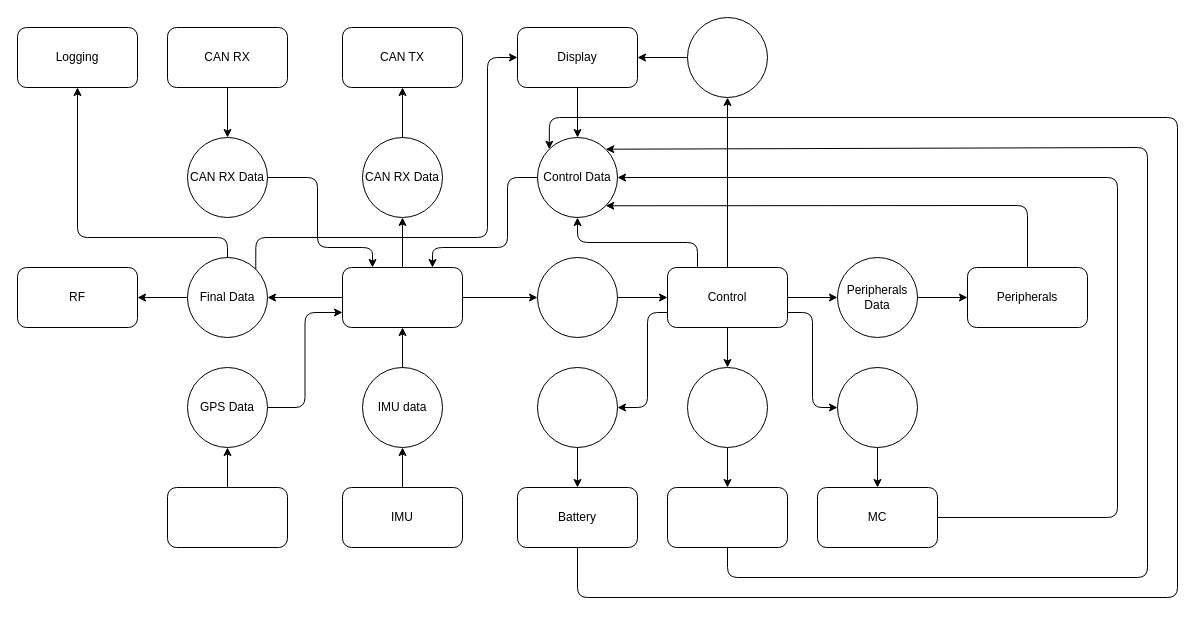
The diagram is 1203 pixels wide and 623 high, and some of its shapes have lost their labels. The shapes that lost their labels are listed below. From the top down, each one's box as (x1, y1, x2, y2) in pixels, then its label:
(686, 16, 768, 98): Error Data
(342, 266, 462, 328): MAIN
(536, 256, 618, 338): Parsed Data
(536, 366, 618, 448): Battery Data
(686, 366, 768, 448): MPPT Data
(836, 366, 918, 448): MC Data
(166, 486, 288, 548): GPS
(666, 486, 788, 548): MPPT
